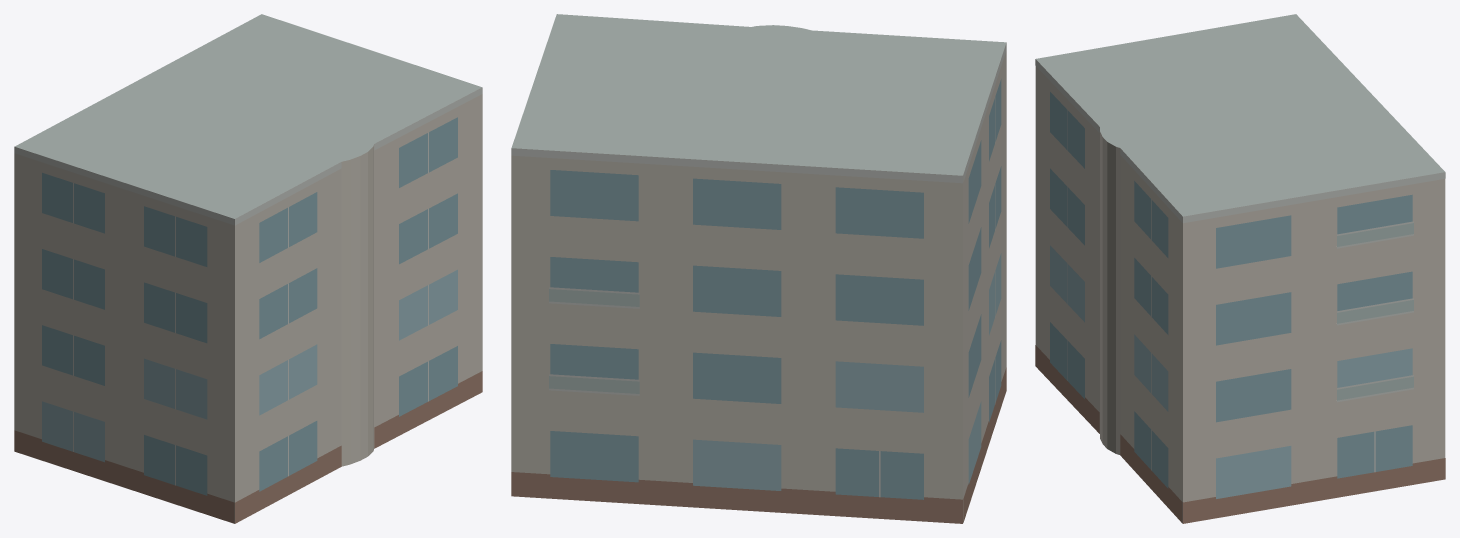
Rendered from survey-upis-32687798.glb.
3 renders of one model, left to right at view 1: azimuth 30°, elevation 25°; view 2: azimuth 150°, elevation 25°; view 3: azimuth 270°, elevation 25°, orthographic. The views are drawn at different scales.
Visible parts, largest first — view 1: survey-upis-32687798.tmp; view 2: survey-upis-32687798.tmp; view 3: survey-upis-32687798.tmp.
Boxes of the visible parts, x1,y1,x2,y2 form: survey-upis-32687798.tmp: (14, 14, 482, 523); survey-upis-32687798.tmp: (511, 14, 1006, 523); survey-upis-32687798.tmp: (1035, 14, 1445, 523).
Bounding box in the file's own units: 15.99 × 11.3 × 13.68.
